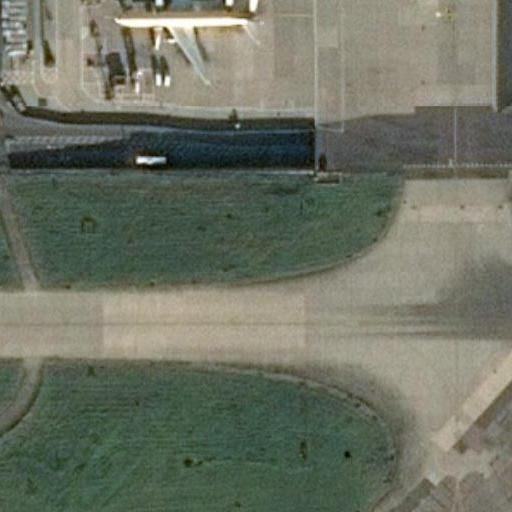Aircraft: (109, 0, 262, 82), (112, 0, 261, 77)
